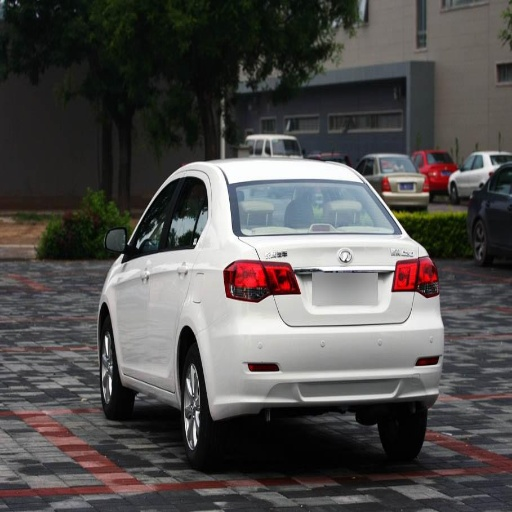back_bumper: (202, 291, 444, 409)
back_glass: (229, 180, 399, 236)
back_left_door: (148, 180, 202, 387)
tailgate: (242, 233, 412, 324)
